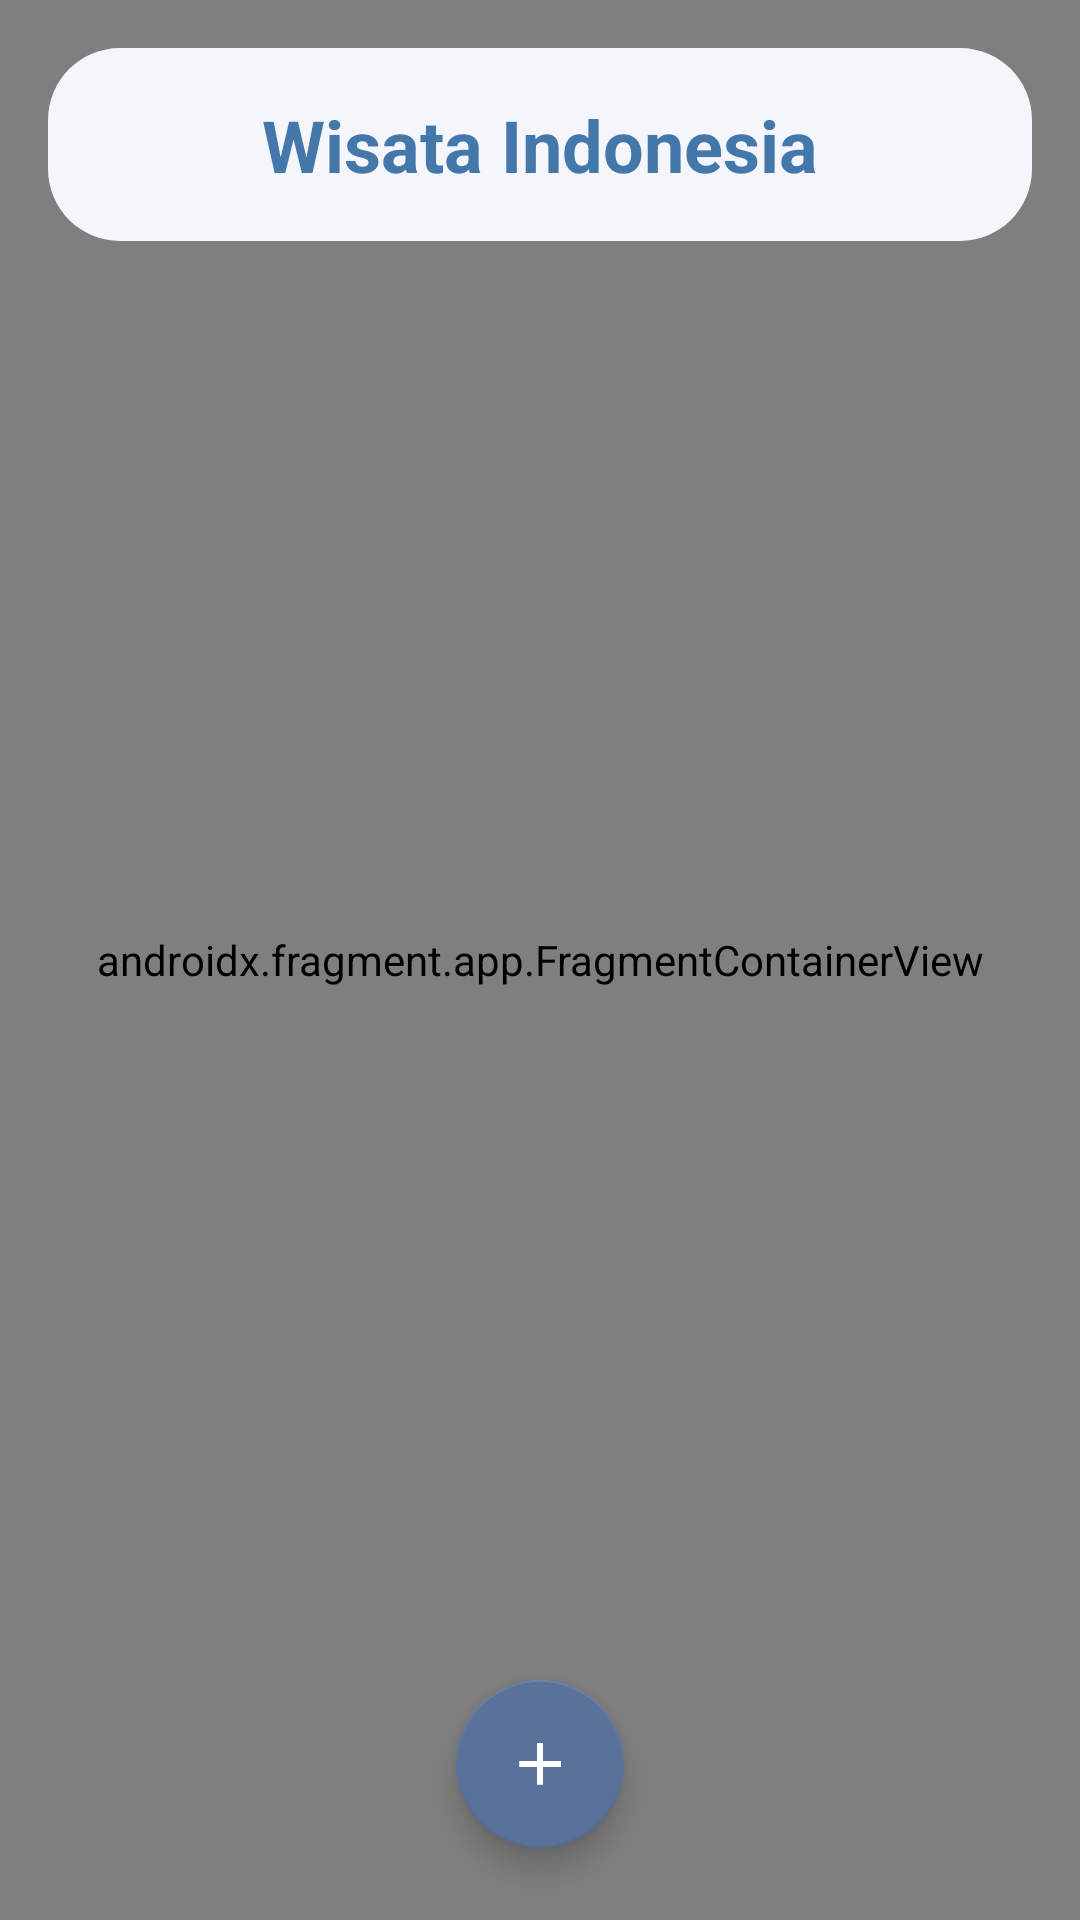

Screen size 1080 x 1920. Icon name, then its box in pixels as region(x1, y1, x2, y2):
Tambah Wisata: region(456, 1680, 624, 1848)
